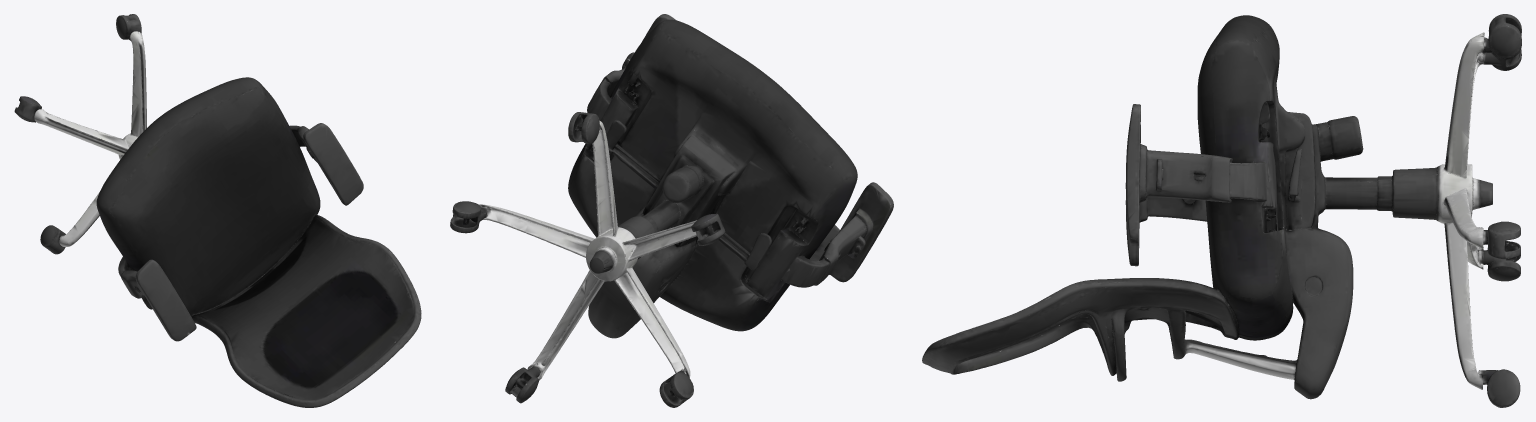
Rendered from final_2nd_floor_6.glb.
3 views of the same model, side by side, from view 1: azimuth 30°, elevation 25°; view 2: azimuth 150°, elevation 25°; view 3: azimuth 270°, elevation 25° (orthographic). The views are drawn at different scales.
Parts seen in each view (by area): view 1: Ramdhan.008; view 2: Ramdhan.008; view 3: Ramdhan.008.
Part boxes in pixels (bbox=[...]): Ramdhan.008: bbox=[14, 14, 421, 407]; Ramdhan.008: bbox=[450, 14, 893, 407]; Ramdhan.008: bbox=[922, 14, 1521, 407].
Bounding box in the file's own units: 0.0207 × 0.0211 × 0.0323.
1 material, 1 textured.
